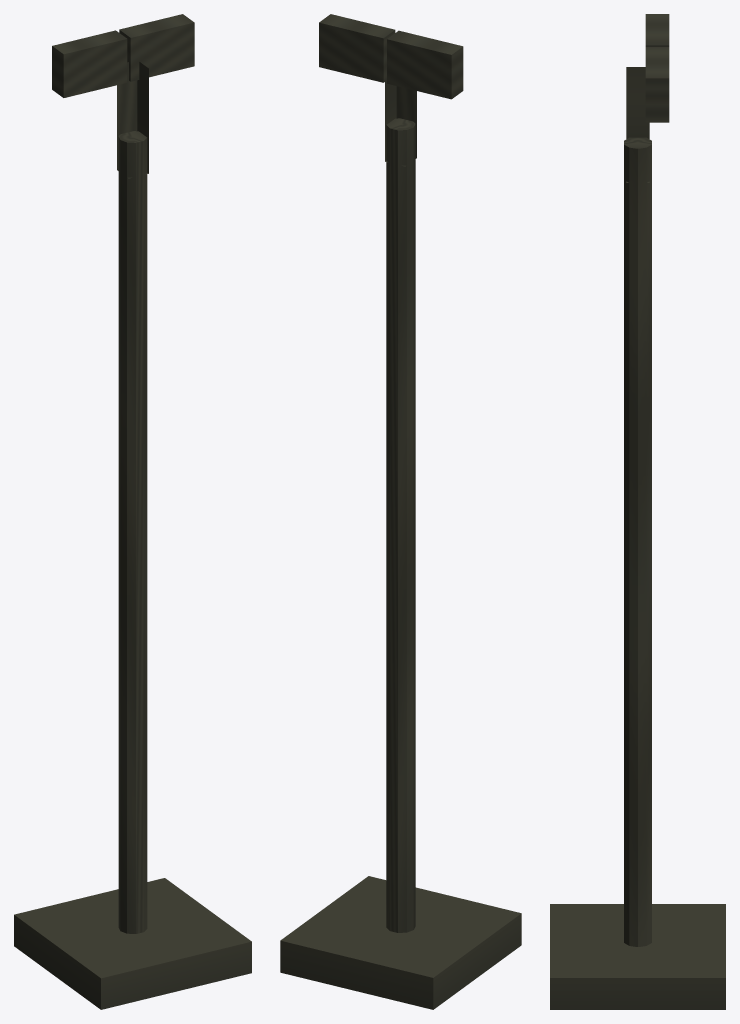
The model's file is prop_floodlight_pole_a.glb.
3 renders of one model, left to right at view 1: azimuth 30°, elevation 25°; view 2: azimuth 150°, elevation 25°; view 3: azimuth 270°, elevation 25°, orthographic.
Visible parts, largest first — view 1: prop_floodlight_pole_a; view 2: prop_floodlight_pole_a; view 3: prop_floodlight_pole_a.
Boxes of the visible parts, x1=… form: prop_floodlight_pole_a: x1=14, y1=14, x2=251, y2=1009; prop_floodlight_pole_a: x1=280, y1=14, x2=521, y2=1009; prop_floodlight_pole_a: x1=550, y1=14, x2=725, y2=1009.
Size of the model in its own units: 0.9 by 5.23 by 0.9.
1 material, 1 textured.
